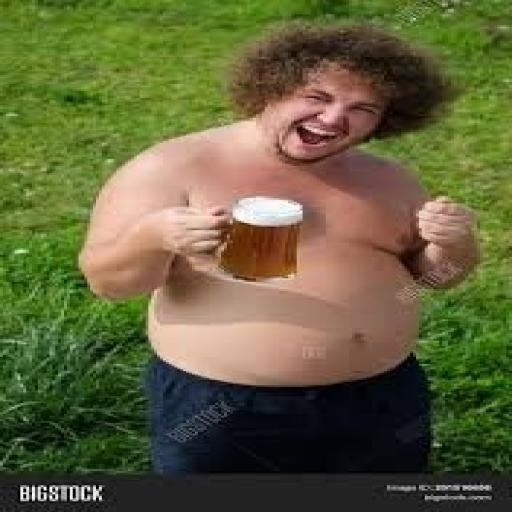drinking: (215, 195, 303, 280)
